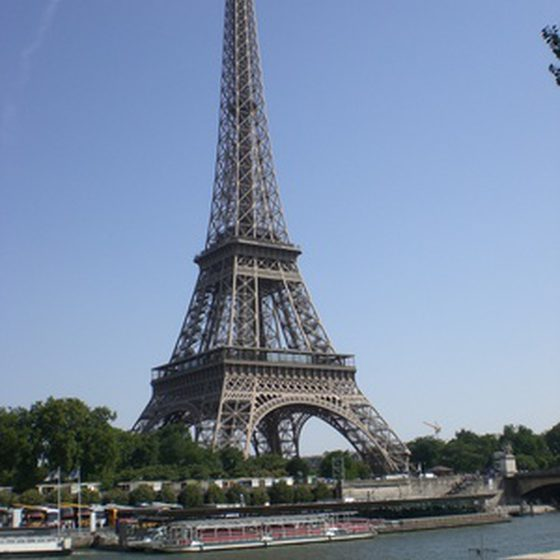eiffel tower: (130, 3, 426, 489)
